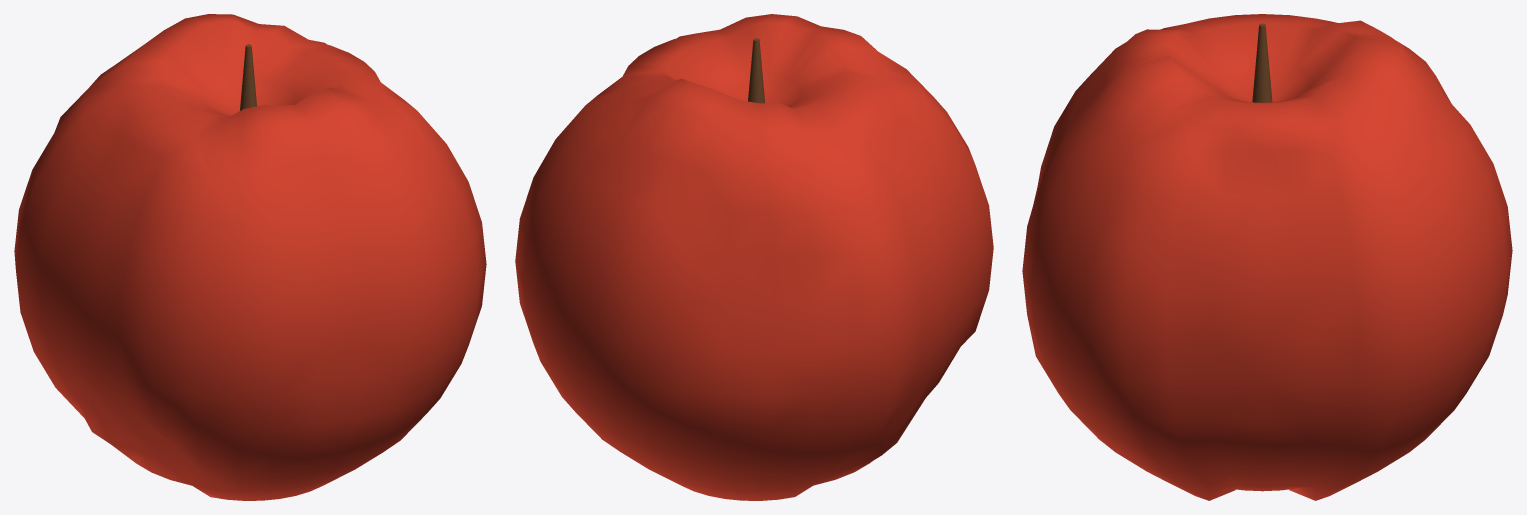
File: apple.dae
The picture shows the model from 3 angles, left to right: view 1: azimuth 30°, elevation 25°; view 2: azimuth 150°, elevation 25°; view 3: azimuth 270°, elevation 25°; orthographic projection. The views are drawn at different scales.
Visible parts, largest first — view 1: Sphere, Cylinder; view 2: Sphere, Cylinder; view 3: Sphere, Cylinder.
Boxes of the visible parts, x1,y1,x2,y2 form: Sphere: (14, 14, 486, 500); Cylinder: (240, 44, 256, 110); Sphere: (515, 14, 993, 500); Cylinder: (748, 38, 764, 103); Sphere: (1022, 14, 1512, 500); Cylinder: (1252, 23, 1272, 102).
Size of the model in its own units: 1.79 by 1.96 by 1.97.
